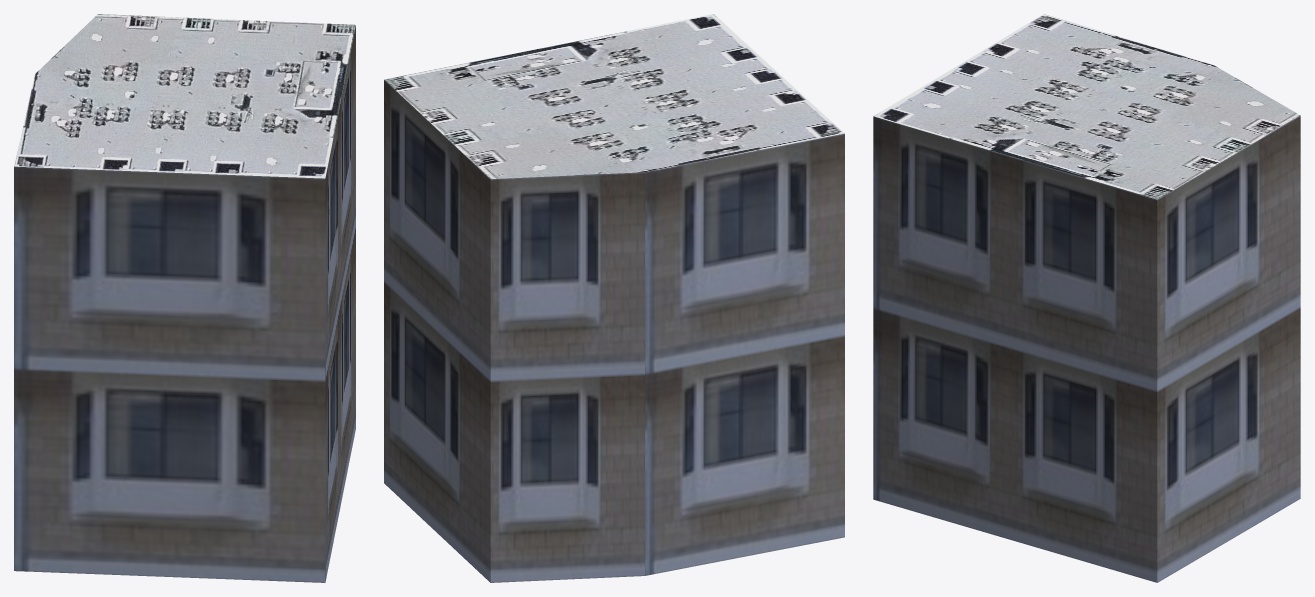
The model's file is ResTex__5040.fbx.
The picture shows the model from 3 angles, left to right: view 1: azimuth 30°, elevation 25°; view 2: azimuth 150°, elevation 25°; view 3: azimuth 270°, elevation 25°; orthographic projection. The views are drawn at different scales.
Parts seen in each view (by area): view 1: CityEngineMaterial_3_m, CityEngineMaterial_4_m; view 2: CityEngineMaterial_3_m, CityEngineMaterial_4_m; view 3: CityEngineMaterial_3_m, CityEngineMaterial_4_m.
Boxes of the visible parts, x1,y1,x2,y2 form: CityEngineMaterial_3_m: (14, 25, 355, 582); CityEngineMaterial_4_m: (14, 14, 355, 178); CityEngineMaterial_3_m: (384, 80, 844, 582); CityEngineMaterial_4_m: (384, 14, 844, 179); CityEngineMaterial_3_m: (873, 115, 1300, 582); CityEngineMaterial_4_m: (874, 14, 1300, 199).
Bounding box in the file's own units: 6.24 × 6 × 6.06.
2 materials, 2 textured.
